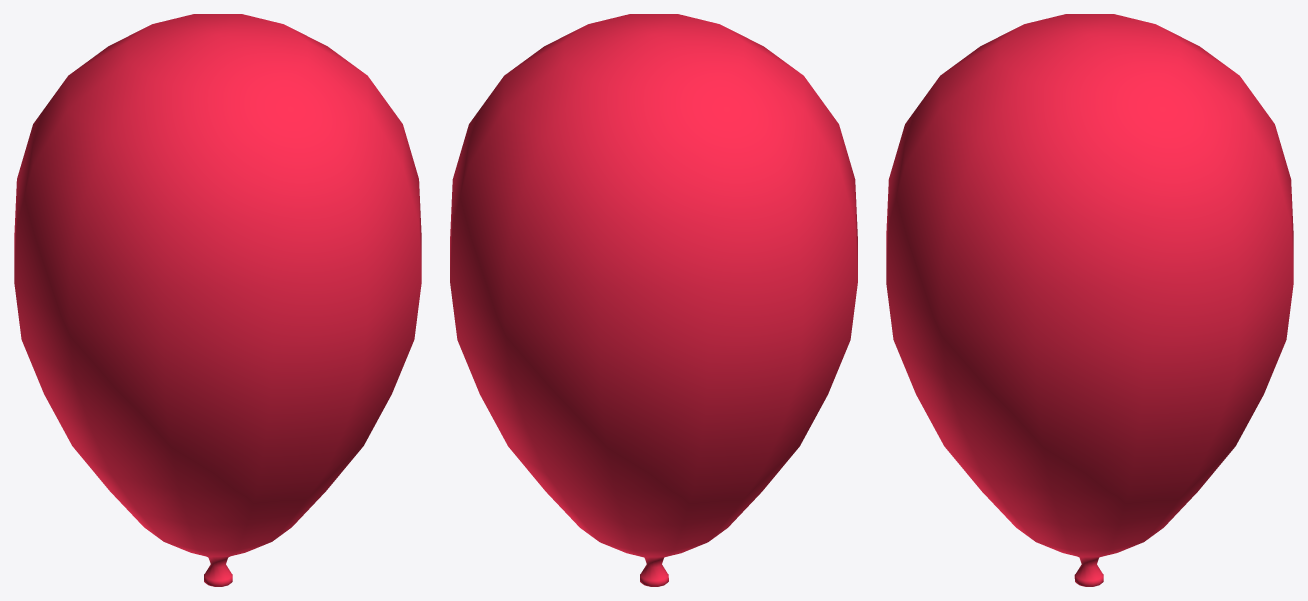
File: Balloon.fbx
3 views of the same model, side by side, from view 1: azimuth 30°, elevation 25°; view 2: azimuth 150°, elevation 25°; view 3: azimuth 270°, elevation 25° (orthographic).
Parts seen in each view (by area): view 1: Balloon; view 2: Balloon; view 3: Balloon.
Boxes of the visible parts, bbox=[...] form: Balloon: bbox=[14, 14, 421, 586]; Balloon: bbox=[450, 14, 857, 586]; Balloon: bbox=[886, 14, 1293, 586].
Size of the model in its own units: 295 by 436 by 295.
